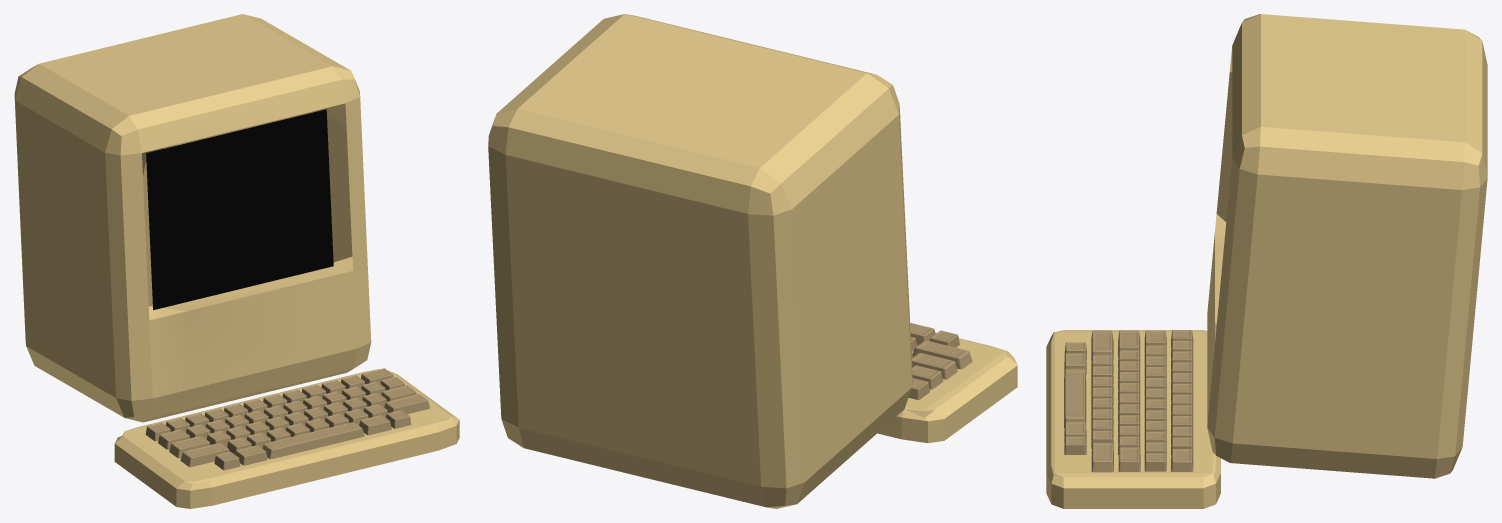
The model's file is macintosh-transformed.glb.
3 renders of one model, left to right at view 1: azimuth 30°, elevation 25°; view 2: azimuth 150°, elevation 25°; view 3: azimuth 270°, elevation 25°, orthographic. The views are drawn at different scales.
Visible parts, largest first — view 1: screen, keys, keyboard; view 2: screen, keyboard, keys; view 3: screen, keys, keyboard.
Part boxes in pixels (bbox=[...]): screen: bbox=[14, 14, 371, 422]; keys: bbox=[145, 368, 430, 470]; keyboard: bbox=[114, 369, 459, 508]; screen: bbox=[488, 14, 912, 508]; keyboard: bbox=[877, 332, 1017, 442]; keys: bbox=[908, 323, 972, 399]; screen: bbox=[1207, 14, 1487, 478]; keys: bbox=[1064, 330, 1193, 472]; keyboard: bbox=[1046, 330, 1220, 508].
Bounding box in the file's own units: 1.07 × 1.15 × 1.27.
